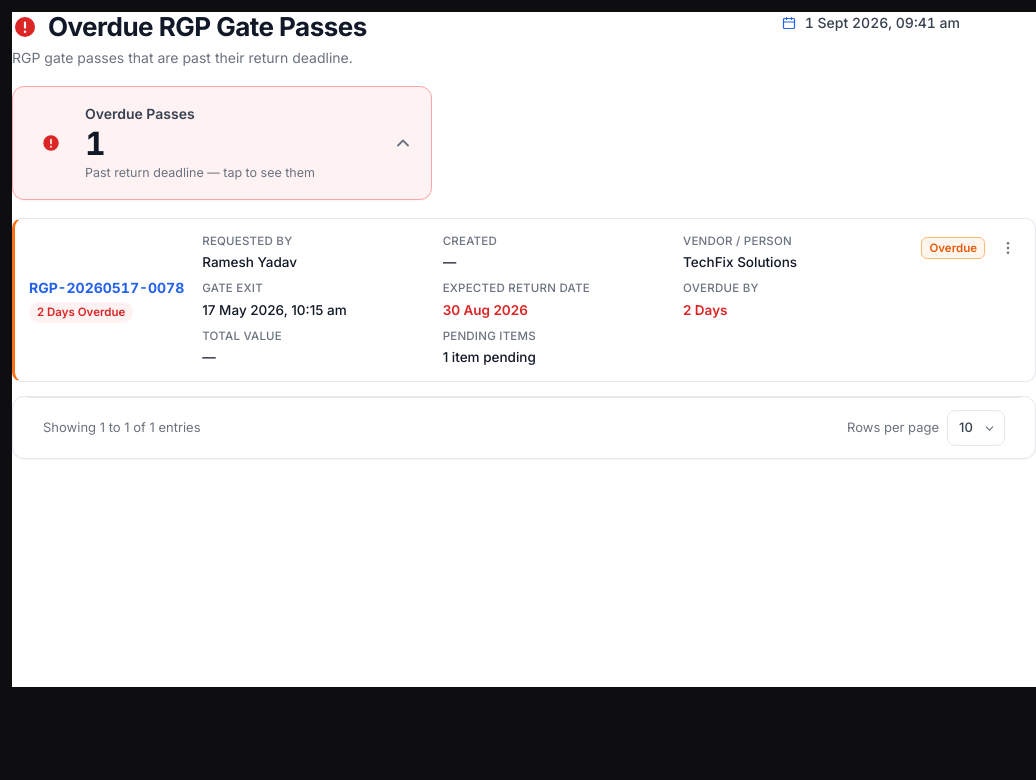
the card menu — only a guard can process a return from it › canProcessReturn=false: no "Process RGP Return", and the remark item reads "Add Remark"
Click the button named "Actions for RGP-20260517-0078".
click(1008, 248)  # box [993, 233, 1023, 263]
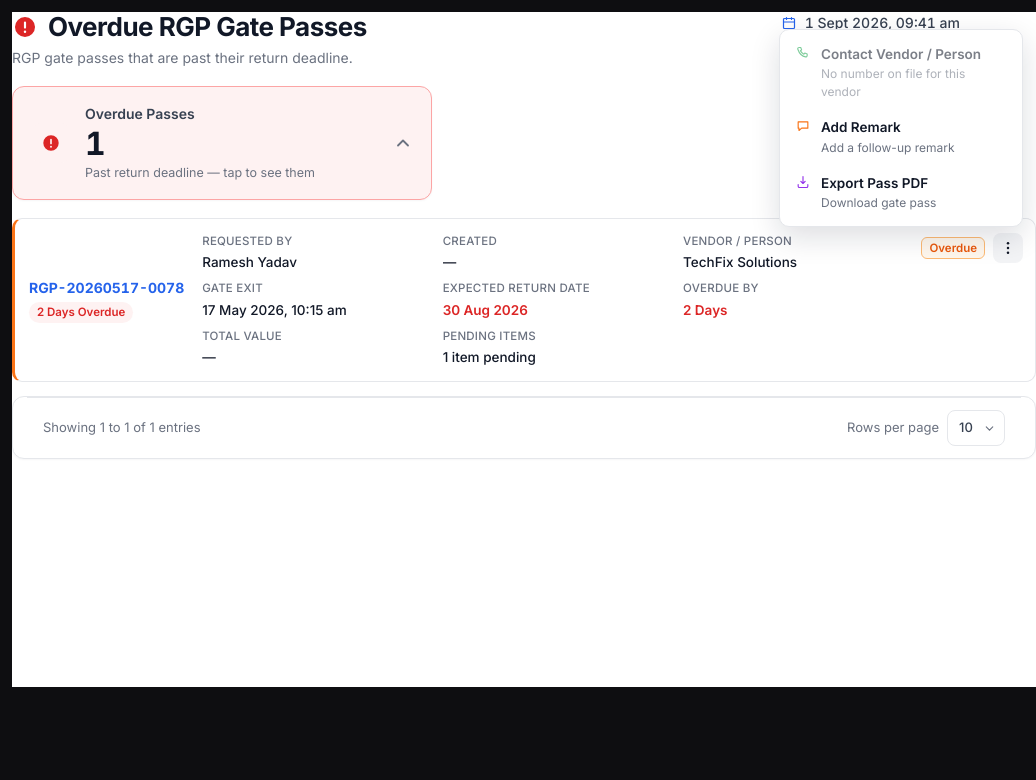
Now the menu item "Add Remark Add a follow-up remark" is shown, box [786, 109, 1016, 165]
Now the menu item "Contact Vendor / Person No number on file for this vendor" is shown, box [795, 45, 981, 99]
Now the menu item "Export Pass PDF Download gate pass" is shown, box [795, 174, 936, 210]
